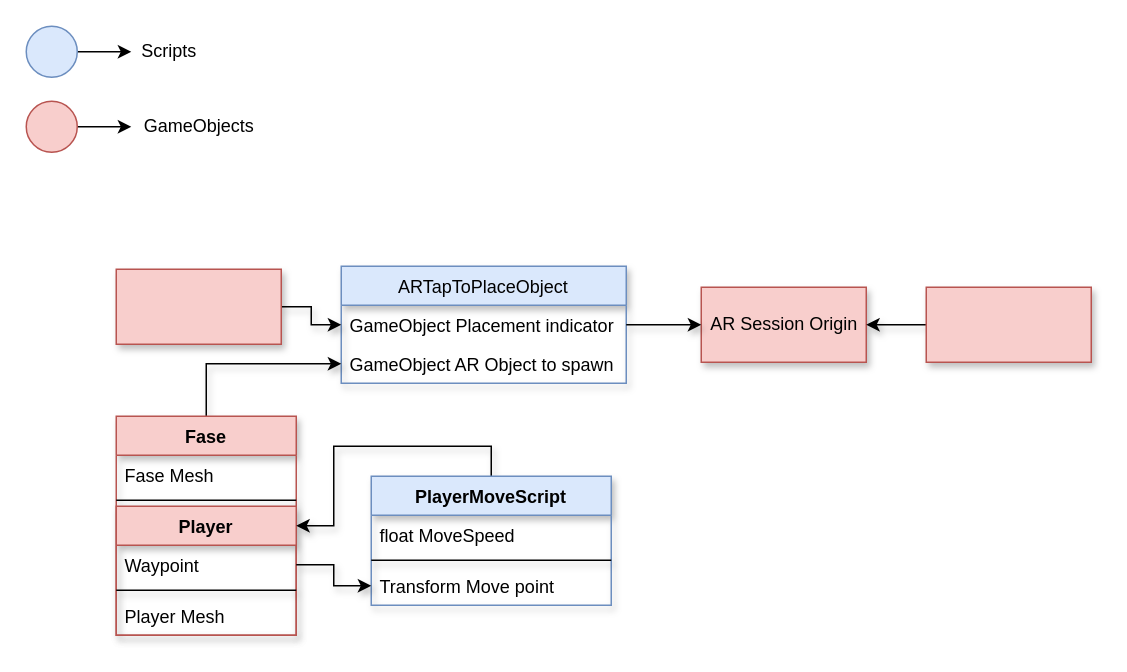
The diagram is 1127 pixels wide and 672 high, and some of its shapes have lost their labels. Here are the shapes that lost their labels. From the top down, the centre of each, then its label:
At pixel 199 308: "Placement Indicator".
At pixel 1009 326: "AR Camera".
